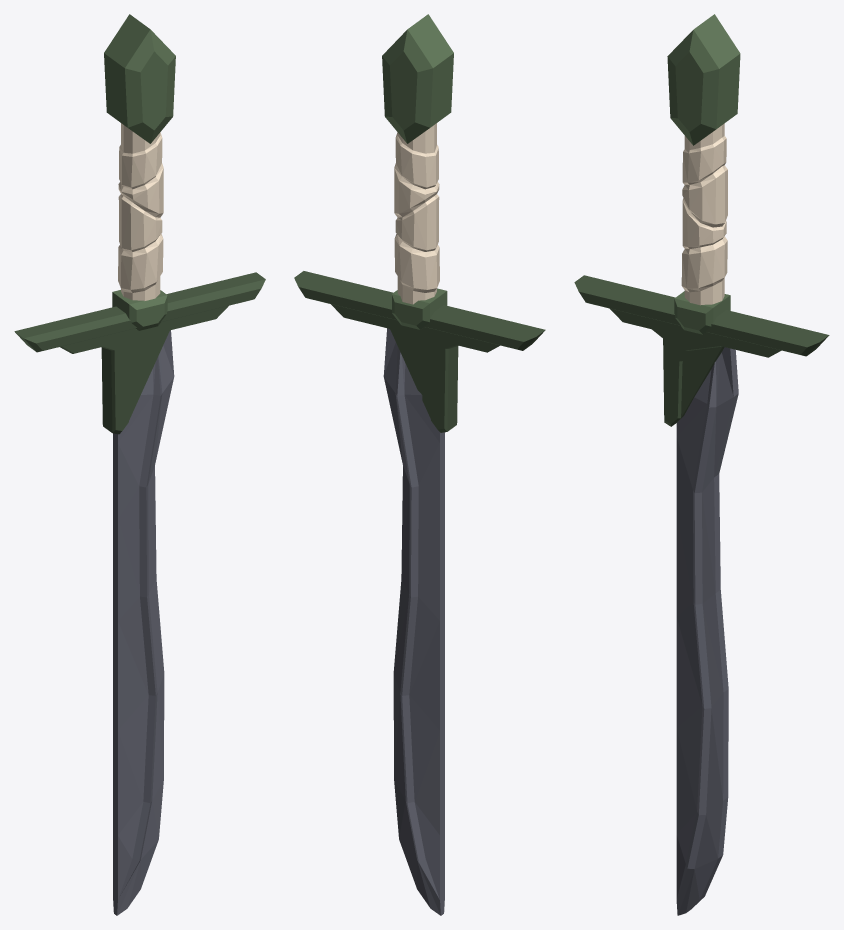
File: _SWORD_1.fbx
3 renders of one model, left to right at view 1: azimuth 30°, elevation 25°; view 2: azimuth 150°, elevation 25°; view 3: azimuth 330°, elevation 25°, orthographic.
Parts seen in each view (by area): view 1: SWORD_1; view 2: SWORD_1; view 3: SWORD_1.
Part boxes in pixels (box(x1,y1,x2,y2)): SWORD_1: box(14, 14, 265, 915); SWORD_1: box(294, 14, 545, 915); SWORD_1: box(574, 14, 829, 915).
Size of the model in its own units: 30.5 by 107 by 6.27.
